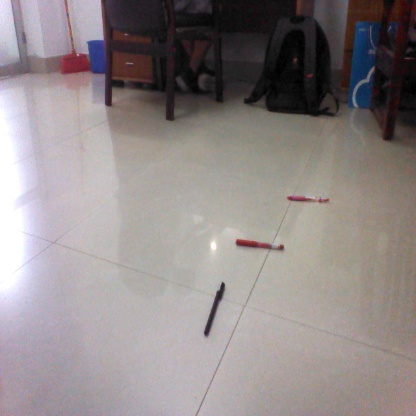pen: (203, 283, 230, 338), (234, 237, 286, 252), (285, 193, 329, 205)
